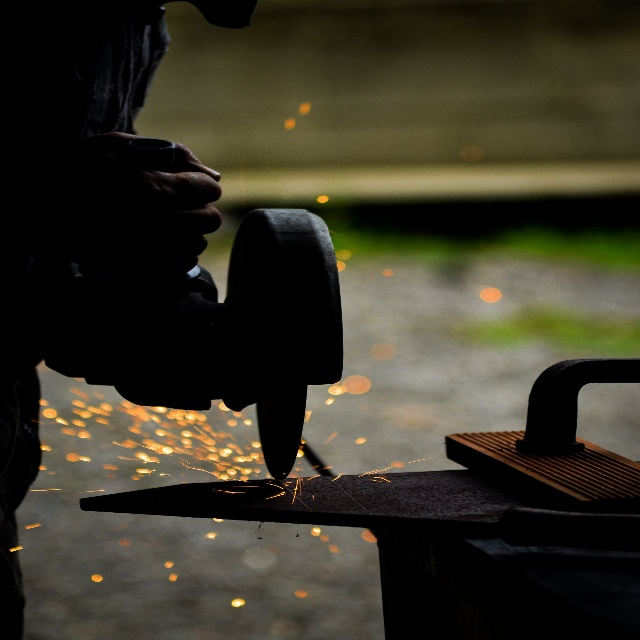Sin_guantes: (95, 131, 225, 273)
